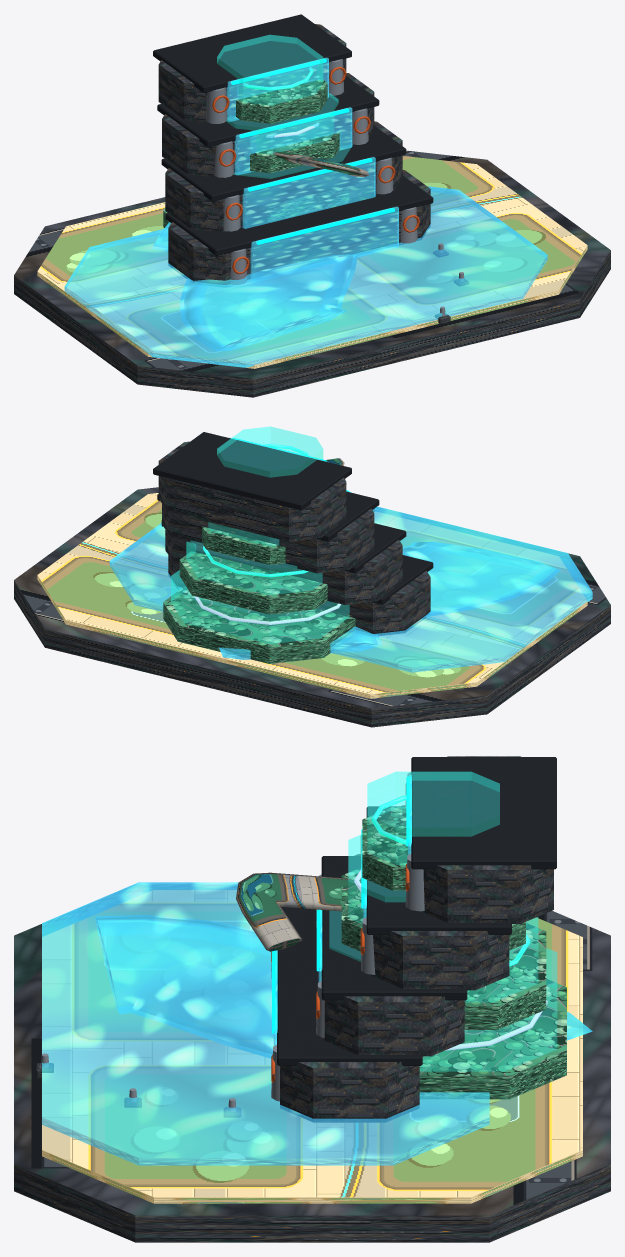
The model's file is interior_setpiece_02_r1_01.glb.
The picture shows the model from 3 angles, top to bottom: view 1: azimuth 30°, elevation 25°; view 2: azimuth 150°, elevation 25°; view 3: azimuth 270°, elevation 25°; orthographic projection. The views are drawn at different scales.
Parts seen in each view (by area): view 1: Setpiece02_C01_water_river, Setpiece02_C01_cliff_basalt, Setpiece02_C01_promenade_paving, Setpiece02_C01_gunmetal, Setpiece02_C01_glass_emerald, Setpiece02_C01_biome_canopy, Setpiece02_C01_steel_machined, Setpiece02_C01_led_cyan, Setpiece02_C01_accent_orange, Setpiece02_C01_copper_bridge; view 2: Setpiece02_C01_cliff_basalt, Setpiece02_C01_promenade_paving, Setpiece02_C01_water_river, Setpiece02_C01_biome_canopy, Setpiece02_C01_glass_emerald, Setpiece02_C01_gunmetal, Setpiece02_C01_led_uv, Setpiece02_C01_led_emerald; view 3: Setpiece02_C01_promenade_paving, Setpiece02_C01_water_river, Setpiece02_C01_cliff_basalt, Setpiece02_C01_gunmetal, Setpiece02_C01_biome_canopy, Setpiece02_C01_glass_emerald, Setpiece02_C01_copper_bridge, Setpiece02_C01_steel_machined, Setpiece02_C01_led_cyan, Setpiece02_C01_led_uv.
Boxes of the visible parts, left/top/right/bottom form: Setpiece02_C01_water_river: left=64, top=57, right=547, bottom=367; Setpiece02_C01_cliff_basalt: left=14, top=24, right=610, bottom=397; Setpiece02_C01_promenade_paving: left=37, top=156, right=587, bottom=368; Setpiece02_C01_gunmetal: left=153, top=14, right=433, bottom=255; Setpiece02_C01_glass_emerald: left=217, top=34, right=352, bottom=178; Setpiece02_C01_biome_canopy: left=163, top=79, right=348, bottom=227; Setpiece02_C01_steel_machined: left=206, top=59, right=464, bottom=316; Setpiece02_C01_led_cyan: left=231, top=58, right=394, bottom=244; Setpiece02_C01_accent_orange: left=212, top=66, right=419, bottom=274; Setpiece02_C01_copper_bridge: left=272, top=151, right=369, bottom=176; Setpiece02_C01_cliff_basalt: left=14, top=441, right=610, bottom=727; Setpiece02_C01_promenade_paving: left=37, top=493, right=587, bottom=698; Setpiece02_C01_water_river: left=109, top=437, right=592, bottom=672; Setpiece02_C01_biome_canopy: left=163, top=526, right=355, bottom=663; Setpiece02_C01_glass_emerald: left=171, top=426, right=349, bottom=643; Setpiece02_C01_gunmetal: left=153, top=432, right=433, bottom=604; Setpiece02_C01_led_uv: left=194, top=596, right=341, bottom=624; Setpiece02_C01_led_emerald: left=203, top=444, right=309, bottom=577; Setpiece02_C01_promenade_paving: left=42, top=890, right=582, bottom=1203; Setpiece02_C01_water_river: left=42, top=775, right=592, bottom=1165; Setpiece02_C01_cliff_basalt: left=14, top=756, right=610, bottom=1242; Setpiece02_C01_gunmetal: left=277, top=757, right=556, bottom=1065; Setpiece02_C01_biome_canopy: left=321, top=806, right=566, bottom=1099; Setpiece02_C01_glass_emerald: left=329, top=771, right=557, bottom=1071; Setpiece02_C01_copper_bridge: left=236, top=872, right=354, bottom=951; Setpiece02_C01_steel_machined: left=41, top=772, right=424, bottom=1111; Setpiece02_C01_led_cyan: left=272, top=776, right=411, bottom=1033; Setpiece02_C01_led_uv: left=354, top=869, right=547, bottom=1050.
Size of the model in its own units: 42 by 17.55 by 32.
13 materials, 13 textured.
